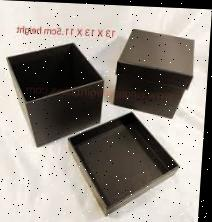cube: (112, 28, 199, 116)
